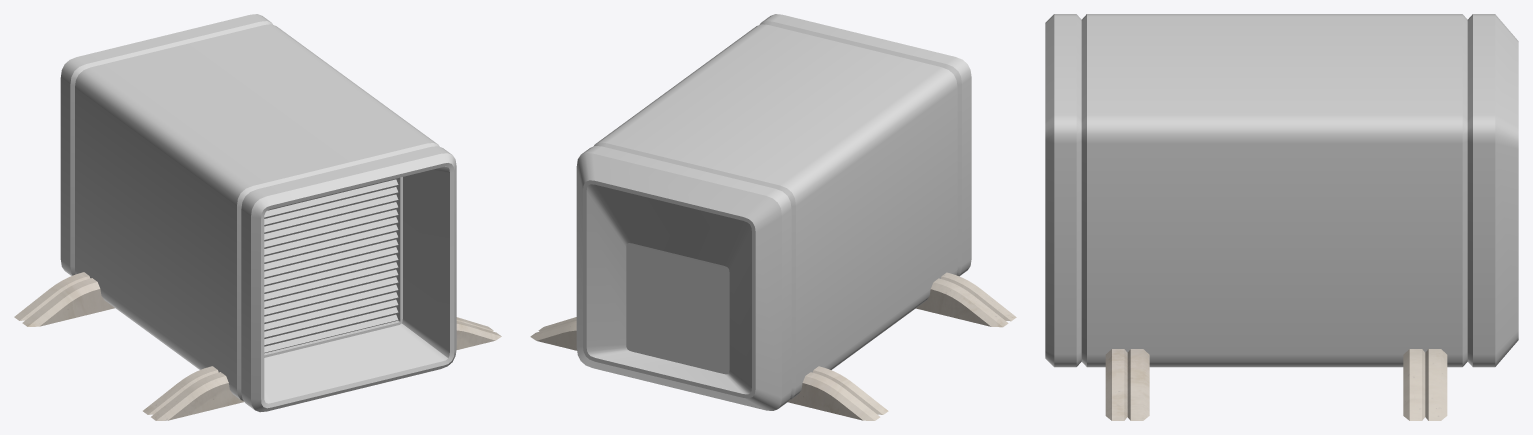
Rendered from KB3D_CBP_UtilityDevice_L.fbx.
The picture shows the model from 3 angles, left to right: view 1: azimuth 30°, elevation 25°; view 2: azimuth 150°, elevation 25°; view 3: azimuth 270°, elevation 25°; orthographic projection. The views are drawn at different scales.
Visible parts, largest first — view 1: KB3D_CBP_UtilityDevice_L_Main; view 2: KB3D_CBP_UtilityDevice_L_Main; view 3: KB3D_CBP_UtilityDevice_L_Main.
Part boxes in pixels (x1,y1,x2,y2): KB3D_CBP_UtilityDevice_L_Main: [14, 14, 501, 420]; KB3D_CBP_UtilityDevice_L_Main: [530, 14, 1016, 420]; KB3D_CBP_UtilityDevice_L_Main: [1045, 14, 1518, 420].
Size of the model in its own units: 263 by 161 by 268.
